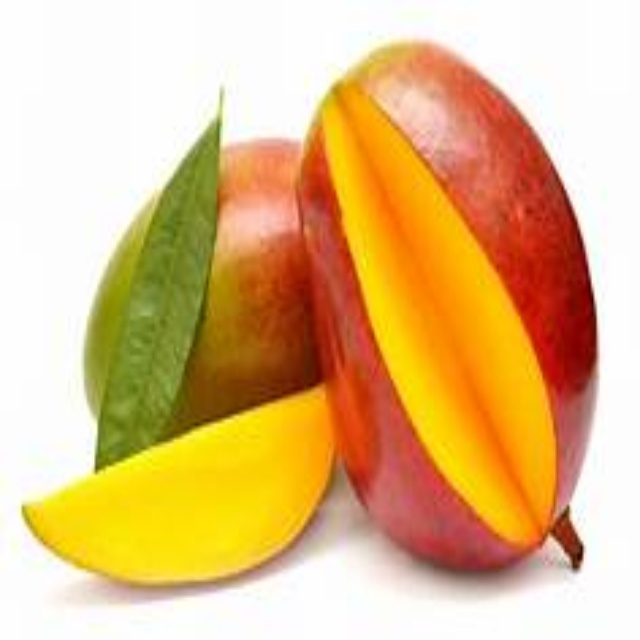mango: (296, 40, 589, 564), (83, 135, 322, 437), (23, 393, 335, 592)
